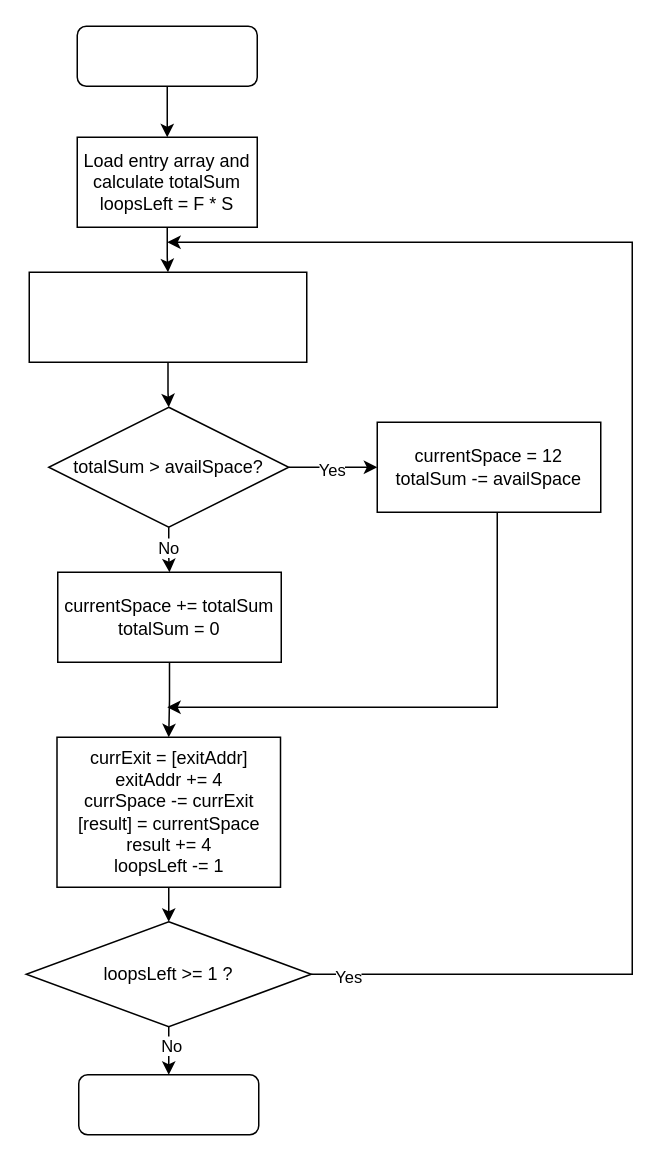
The diagram is 671 pixels wide and 1161 high, and some of its shapes have lost their labels. Here are the shapes that lost their labels. From the top down, the centre of each, then its label:
At [166,55]: "Start".
At [167,316]: "currentSpace = [buildingAddr] buildingAddr += 4 availSpace = 12 - currentSpace".
At [168,1104]: "Exit asm_func (BX LR)".
